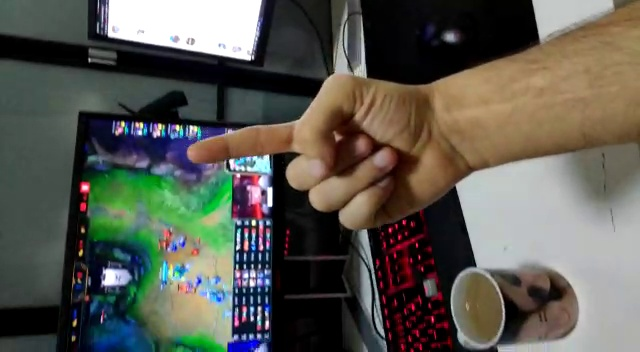One: (186, 73, 438, 214)
